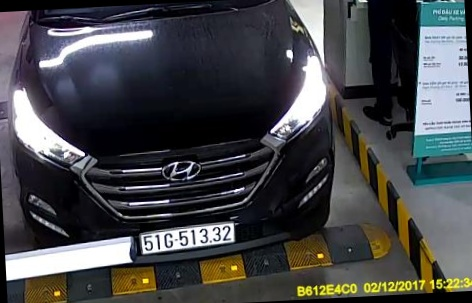plate: (138, 221, 243, 257)
